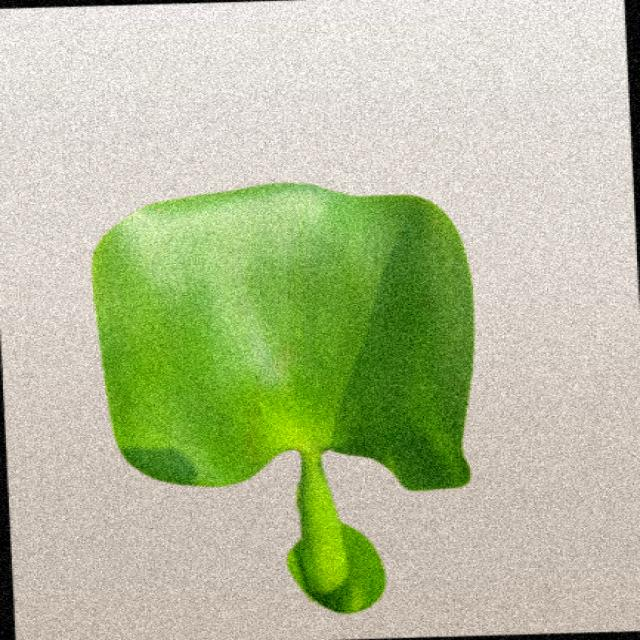daun sehat: (93, 184, 473, 614)
